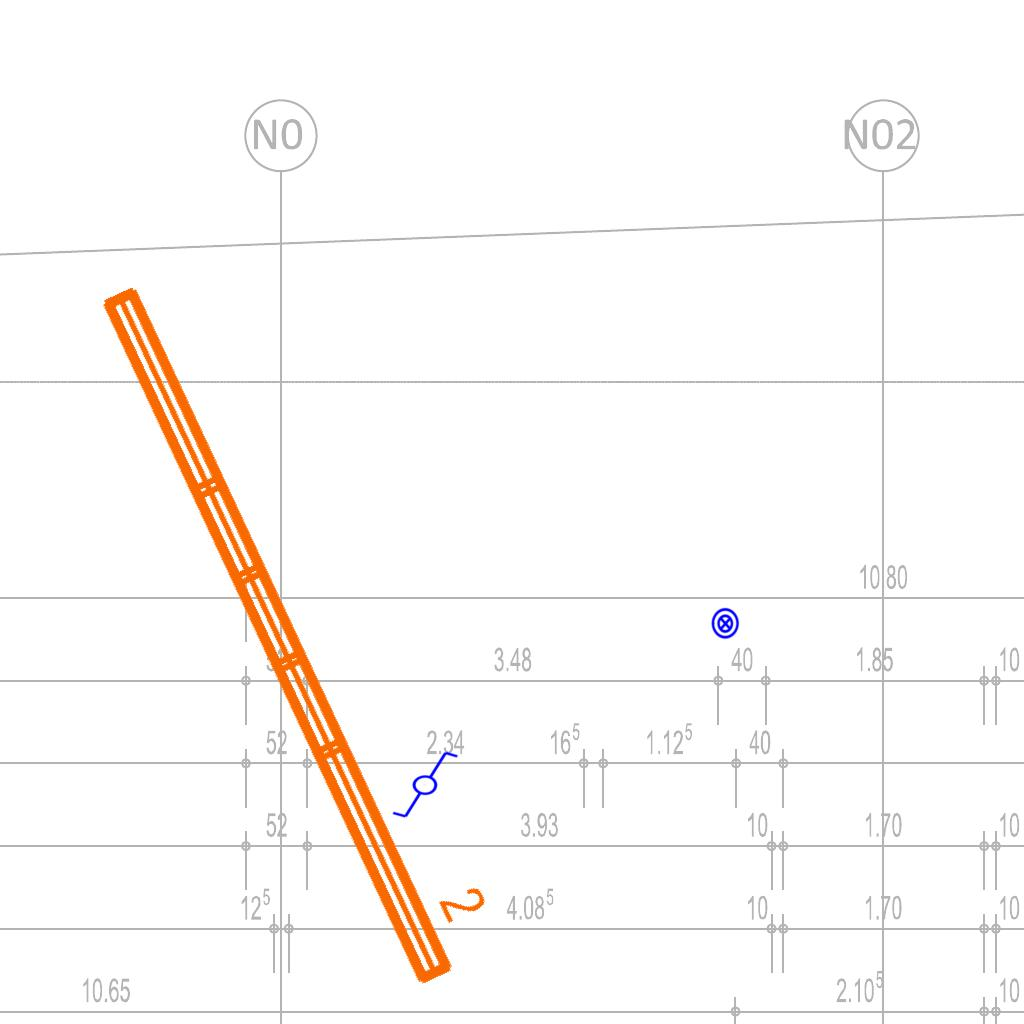Ambulanz_Pendelleuchte_LED: (85, 249, 515, 999)
Taster_beleuchtet: (709, 607, 742, 640)
Wechselschalter: (382, 748, 460, 820)
